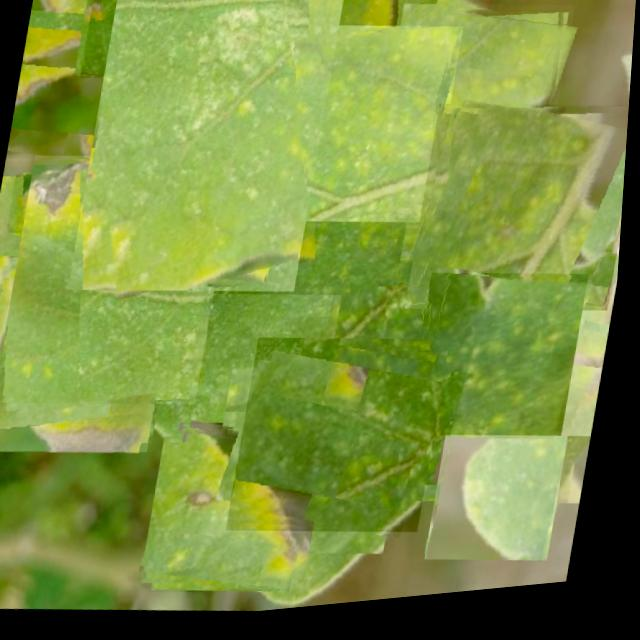leaf_spot: (69, 0, 347, 314), (0, 141, 239, 424), (208, 26, 438, 317), (407, 98, 632, 338), (233, 15, 464, 246), (231, 329, 455, 556), (401, 270, 592, 509), (0, 243, 182, 469), (375, 0, 575, 203), (146, 416, 335, 608), (481, 248, 624, 457), (6, 0, 177, 173), (327, 256, 497, 430), (431, 435, 574, 581), (289, 0, 442, 88), (79, 0, 186, 88), (7, 170, 76, 239)
